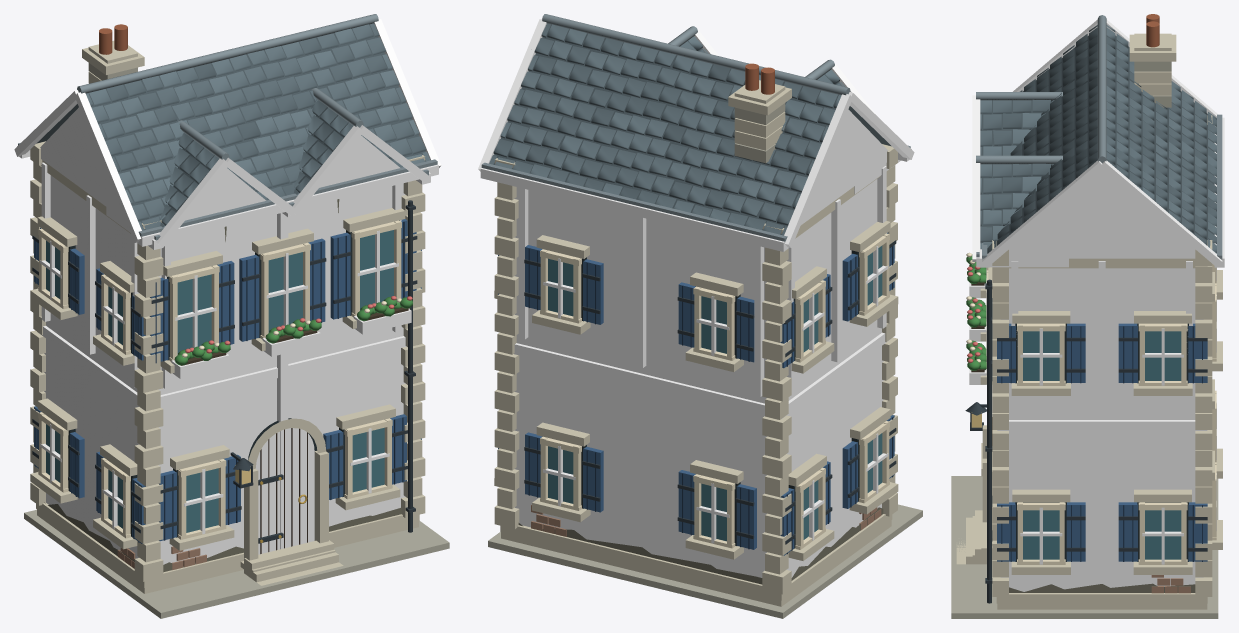
The model's file is townhouse.glb.
The picture shows the model from 3 angles, left to right: view 1: azimuth 30°, elevation 25°; view 2: azimuth 150°, elevation 25°; view 3: azimuth 270°, elevation 25°; orthographic projection. The views are drawn at different scales.
Parts seen in each view (by area): view 1: SourceMesh_00005, SourceMesh_00098, SourceMesh_00000, SourceMesh_00089, SourceMesh_00172, SourceMesh_00084, SourceMesh_00092, SourceMesh_00006, SourceMesh_00090, SourceMesh_00163, SourceMesh_00143, SourceMesh_00085 (+59 smaller); view 2: SourceMesh_00005, SourceMesh_00098, SourceMesh_00086, SourceMesh_00000, SourceMesh_00006, SourceMesh_00084, SourceMesh_00092, SourceMesh_00087, SourceMesh_00001, SourceMesh_00088, SourceMesh_00093, SourceMesh_00640 (+41 smaller); view 3: SourceMesh_00005, SourceMesh_00098, SourceMesh_00095, SourceMesh_00000, SourceMesh_00163, SourceMesh_00086, SourceMesh_00143, SourceMesh_00006, SourceMesh_00084, SourceMesh_00089, SourceMesh_00096, SourceMesh_00097 (+45 smaller).
Boxes of the visible parts, bbox=[...] form: SourceMesh_00005: bbox=[44, 175, 405, 564]; SourceMesh_00098: bbox=[86, 23, 430, 230]; SourceMesh_00000: bbox=[24, 509, 449, 618]; SourceMesh_00089: bbox=[88, 24, 426, 229]; SourceMesh_00172: bbox=[255, 428, 314, 554]; SourceMesh_00084: bbox=[37, 326, 406, 410]; SourceMesh_00092: bbox=[40, 107, 125, 220]; SourceMesh_00006: bbox=[36, 503, 419, 587]; SourceMesh_00090: bbox=[137, 164, 438, 246]; SourceMesh_00163: bbox=[292, 99, 353, 194]; SourceMesh_00143: bbox=[158, 133, 218, 227]; SourceMesh_00085: bbox=[277, 213, 288, 549]; SourceMesh_00005: bbox=[514, 179, 883, 577]; SourceMesh_00098: bbox=[489, 23, 841, 235]; SourceMesh_00086: bbox=[493, 24, 838, 234]; SourceMesh_00000: bbox=[488, 504, 922, 618]; SourceMesh_00006: bbox=[500, 514, 892, 600]; SourceMesh_00084: bbox=[514, 332, 891, 418]; SourceMesh_00092: bbox=[800, 109, 888, 225]; SourceMesh_00087: bbox=[480, 168, 788, 251]; SourceMesh_00001: bbox=[501, 520, 891, 606]; SourceMesh_00088: bbox=[481, 162, 787, 241]; SourceMesh_00093: bbox=[784, 94, 852, 247]; SourceMesh_00640: bbox=[636, 216, 646, 368]; SourceMesh_00005: bbox=[1001, 268, 1203, 591]; SourceMesh_00098: bbox=[987, 25, 1216, 253]; SourceMesh_00095: bbox=[1009, 170, 1195, 258]; SourceMesh_00000: bbox=[951, 476, 1218, 618]; SourceMesh_00163: bbox=[980, 163, 1053, 249]; SourceMesh_00086: bbox=[1106, 35, 1214, 245]; SourceMesh_00143: bbox=[980, 99, 1054, 155]; SourceMesh_00006: bbox=[996, 593, 1207, 603]; SourceMesh_00084: bbox=[997, 420, 1207, 430]; SourceMesh_00089: bbox=[996, 35, 1097, 245]; SourceMesh_00096: bbox=[1100, 160, 1222, 267]; SourceMesh_00097: bbox=[982, 160, 1104, 267].
Bounding box in the file's own units: 5.89 × 9.28 × 4.71.
